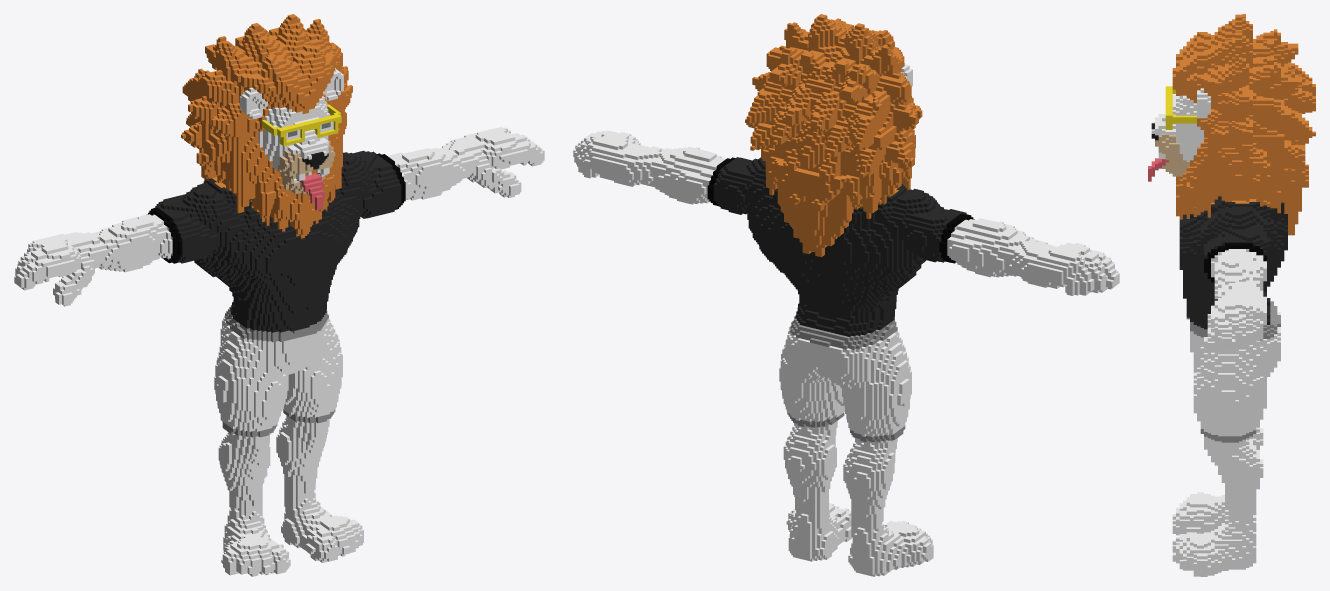
File: 917-y1N2UJFB.glb
3 views of the same model, side by side, from view 1: azimuth 30°, elevation 25°; view 2: azimuth 150°, elevation 25°; view 3: azimuth 270°, elevation 25° (orthographic). The views are drawn at different scales.
Visible parts, largest first — view 1: tongue_out; view 2: tongue_out; view 3: tongue_out.
Boxes of the visible parts, x1=… form: tongue_out: x1=14, y1=14, x2=544, y2=576; tongue_out: x1=573, y1=14, x2=1119, y2=576; tongue_out: x1=1148, y1=14, x2=1315, y2=576.
Size of the model in its own units: 17.2 by 16.5 by 4.8.
Materials: 5 (5 with a texture image).
